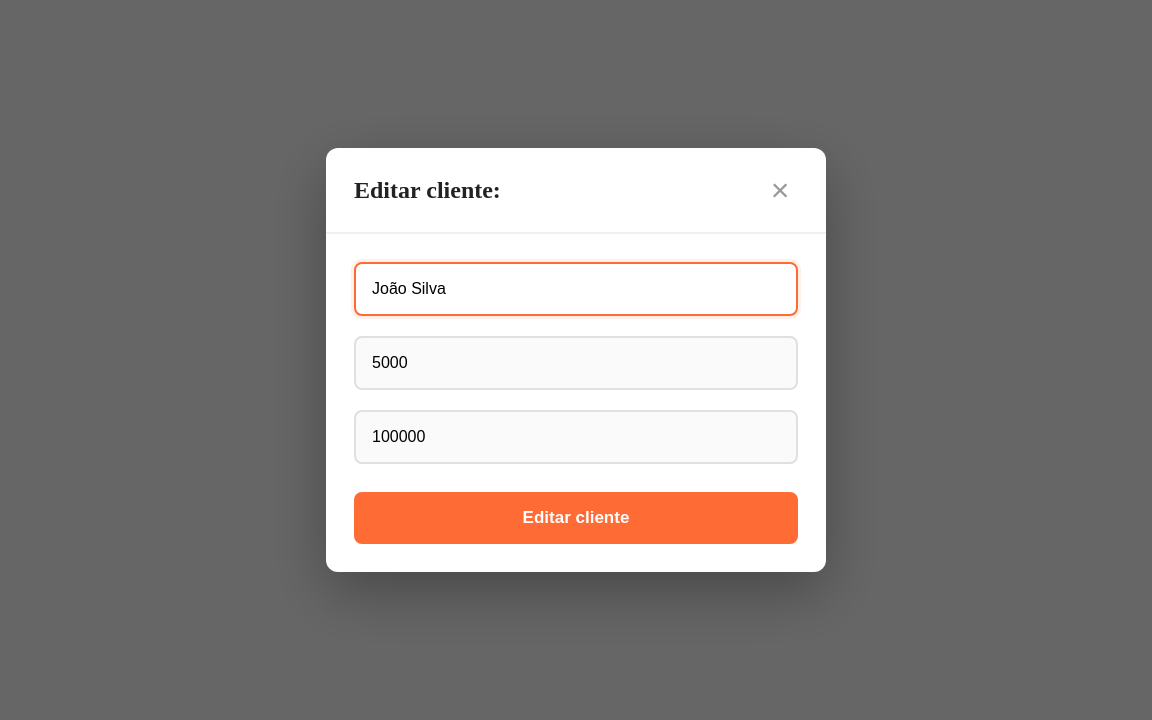
Test: ClientEditModal › deve validar valor da empresa maior que zero
Replace the text in the 2nd number field with placeholder "Valor da empresa" with "0" at {"x": 576, "y": 437}, box [354, 410, 798, 464]
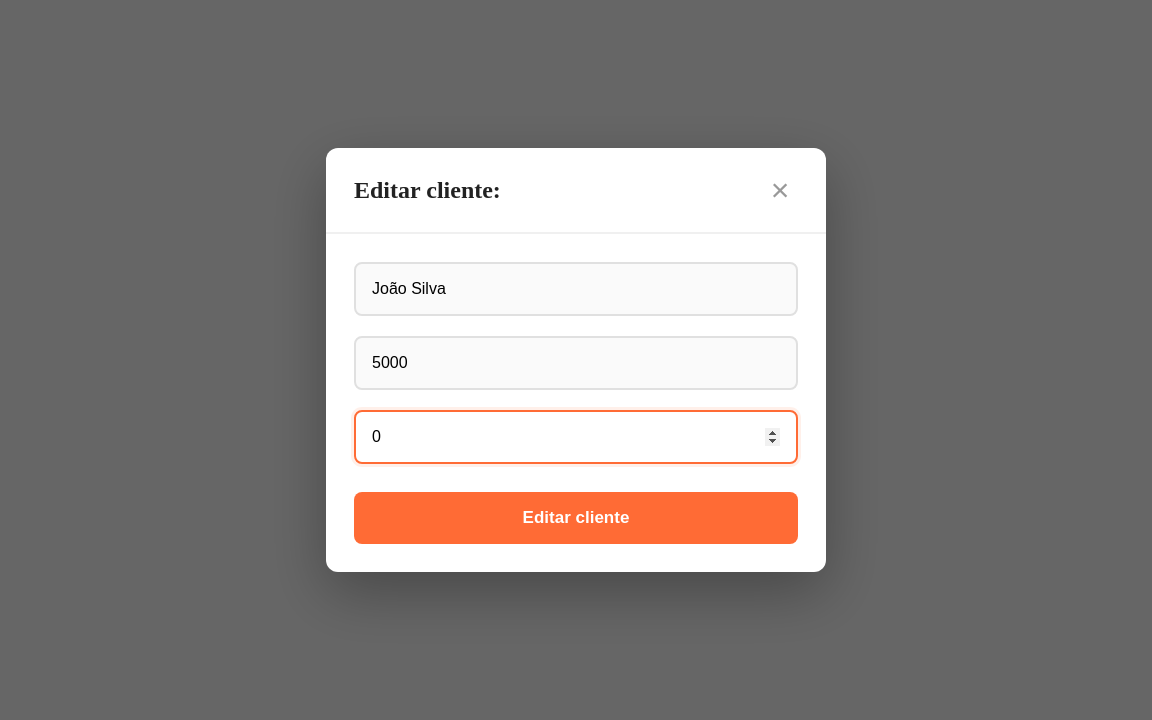
Click the button "Editar cliente".
click(576, 518)  # box [354, 492, 798, 544]
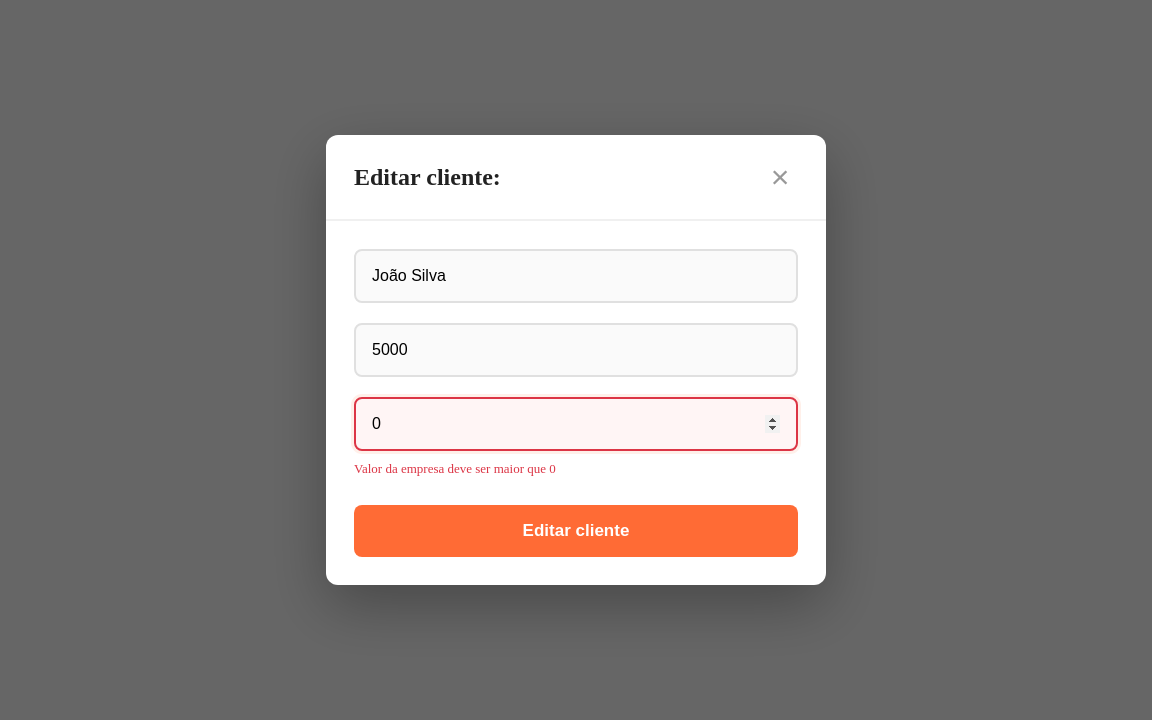
Expected: the text "Valor da empresa deve ser maior que 0" is shown, [354, 461, 556, 476]
